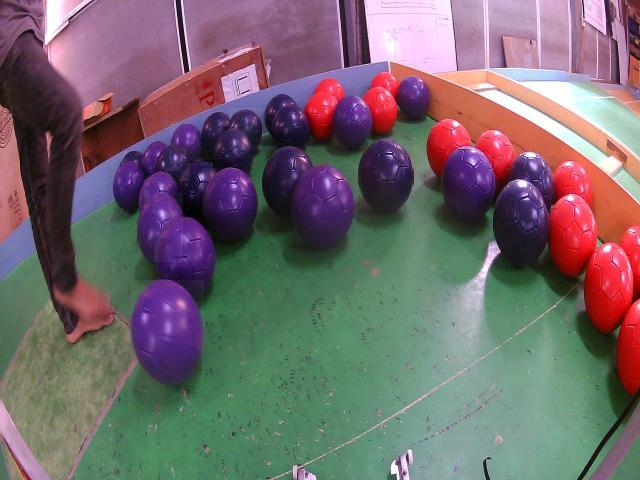jambhalya: (131, 280, 204, 385), (291, 165, 354, 248), (155, 217, 215, 298), (202, 168, 258, 242), (441, 147, 495, 222), (137, 193, 183, 262), (332, 97, 372, 149), (114, 161, 144, 211), (396, 77, 430, 119), (140, 172, 177, 208), (172, 125, 201, 161), (142, 141, 166, 177)
kaalyya: (493, 180, 549, 266), (358, 139, 413, 213), (263, 146, 312, 216), (509, 151, 554, 211), (177, 160, 215, 220), (214, 129, 254, 173), (271, 104, 310, 149), (230, 108, 263, 150), (156, 145, 190, 181), (201, 112, 230, 153), (265, 94, 295, 132), (122, 151, 142, 166)
